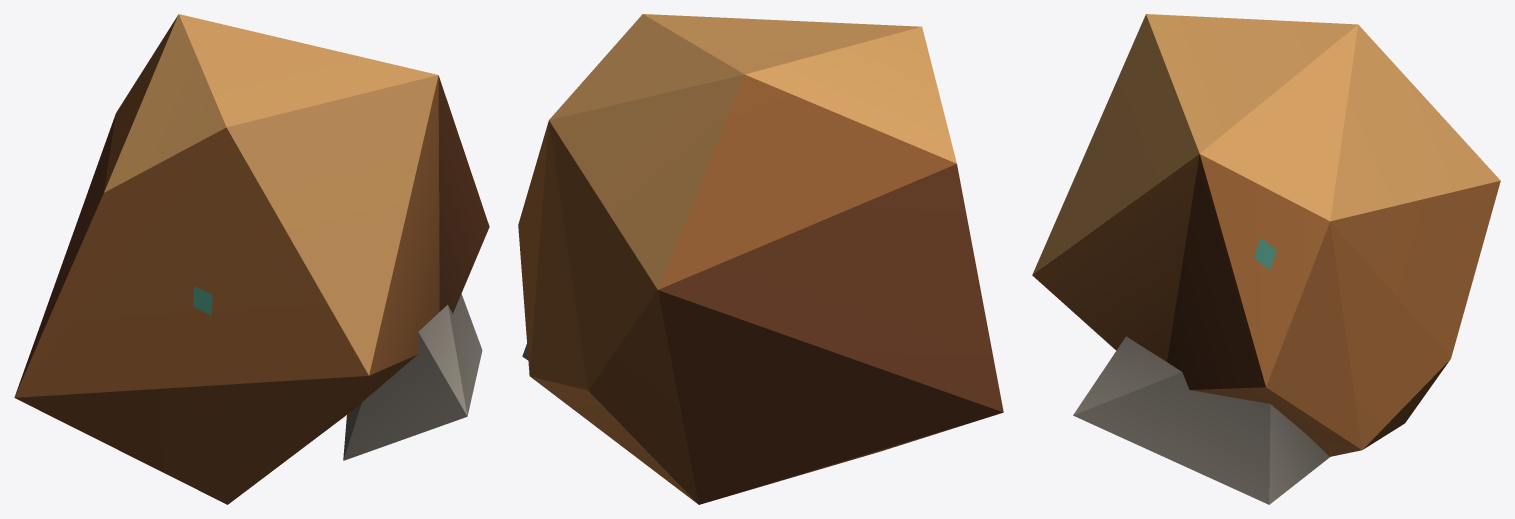
Rendered from ore_copper_low.glb.
3 renders of one model, left to right at view 1: azimuth 30°, elevation 25°; view 2: azimuth 150°, elevation 25°; view 3: azimuth 270°, elevation 25°, orthographic. The views are drawn at different scales.
Size of the model in its own units: 0.26 by 0.22 by 0.23.
